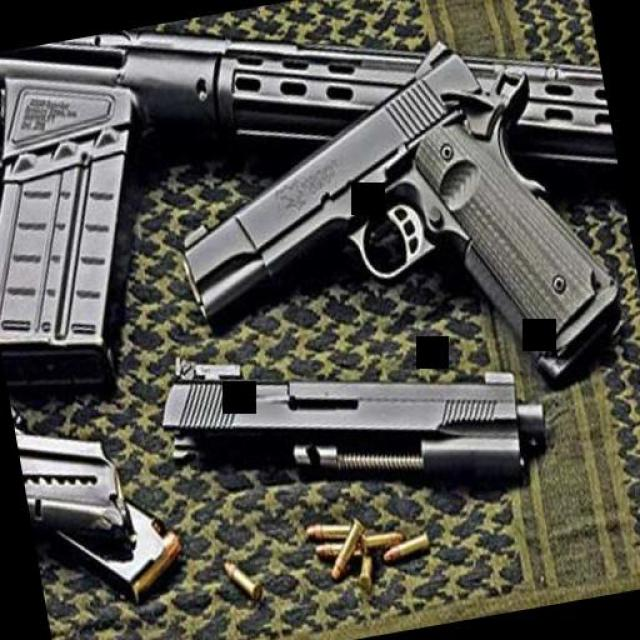gun: (148, 10, 634, 430)
